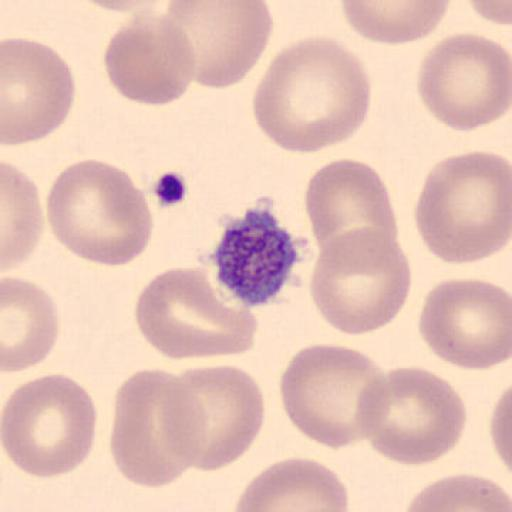Platelet: (208, 201, 306, 308)
RBC: (251, 33, 373, 155), (133, 264, 260, 360), (46, 158, 155, 268), (278, 343, 390, 450), (308, 224, 412, 337), (162, 362, 266, 474), (108, 370, 206, 488), (358, 363, 467, 468), (412, 150, 510, 266), (303, 156, 400, 262), (2, 372, 98, 479), (164, 0, 273, 90), (416, 32, 511, 133), (102, 10, 197, 107), (418, 276, 512, 372), (1, 35, 77, 147), (231, 455, 351, 512), (1, 274, 60, 372), (339, 0, 453, 45), (2, 160, 44, 272), (402, 471, 512, 512), (489, 382, 512, 474), (70, 0, 178, 14), (466, 0, 512, 27)
